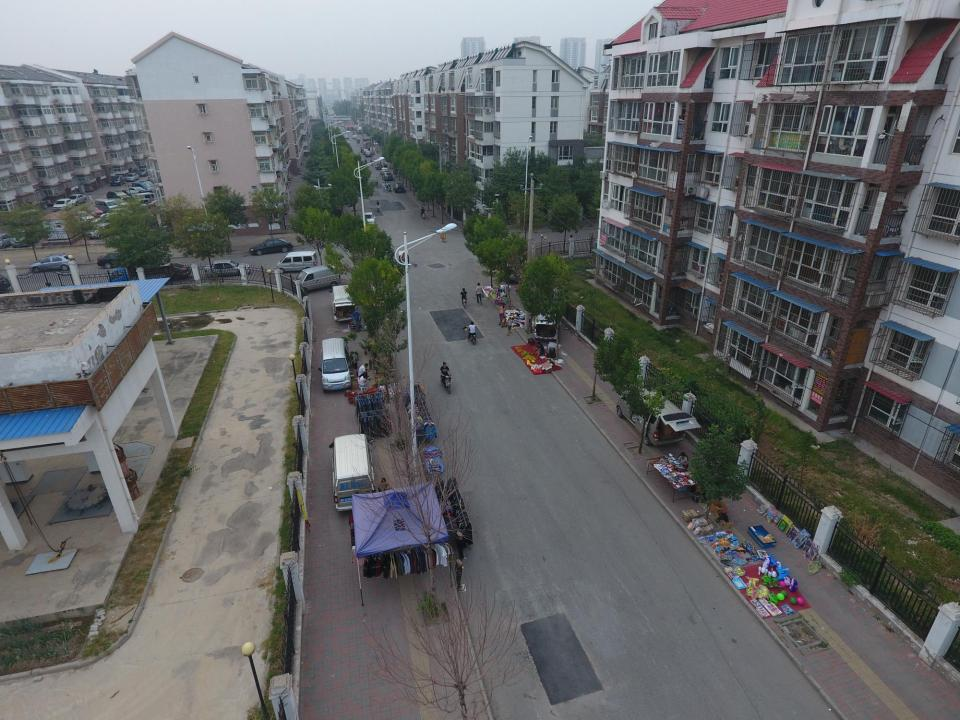car: (28, 253, 77, 273), (96, 249, 146, 268), (204, 259, 251, 278), (249, 238, 293, 256), (147, 262, 191, 280), (94, 212, 129, 231), (99, 207, 136, 224), (85, 221, 118, 239), (10, 226, 32, 248), (70, 209, 95, 225), (118, 188, 142, 202), (106, 189, 131, 202), (80, 204, 103, 218), (104, 197, 128, 210), (52, 198, 74, 212), (130, 181, 153, 194), (66, 193, 87, 206), (361, 212, 375, 228), (109, 174, 126, 187), (126, 186, 147, 196), (125, 172, 140, 182), (136, 168, 152, 177), (392, 182, 405, 193), (382, 171, 393, 181), (380, 167, 390, 174)
truck: (108, 263, 176, 288)
van: (616, 386, 702, 446), (329, 434, 376, 511), (318, 338, 352, 392), (292, 264, 342, 295), (328, 284, 356, 322), (274, 250, 318, 274), (533, 306, 559, 342), (5, 208, 41, 229), (134, 191, 161, 207), (94, 198, 119, 215)
